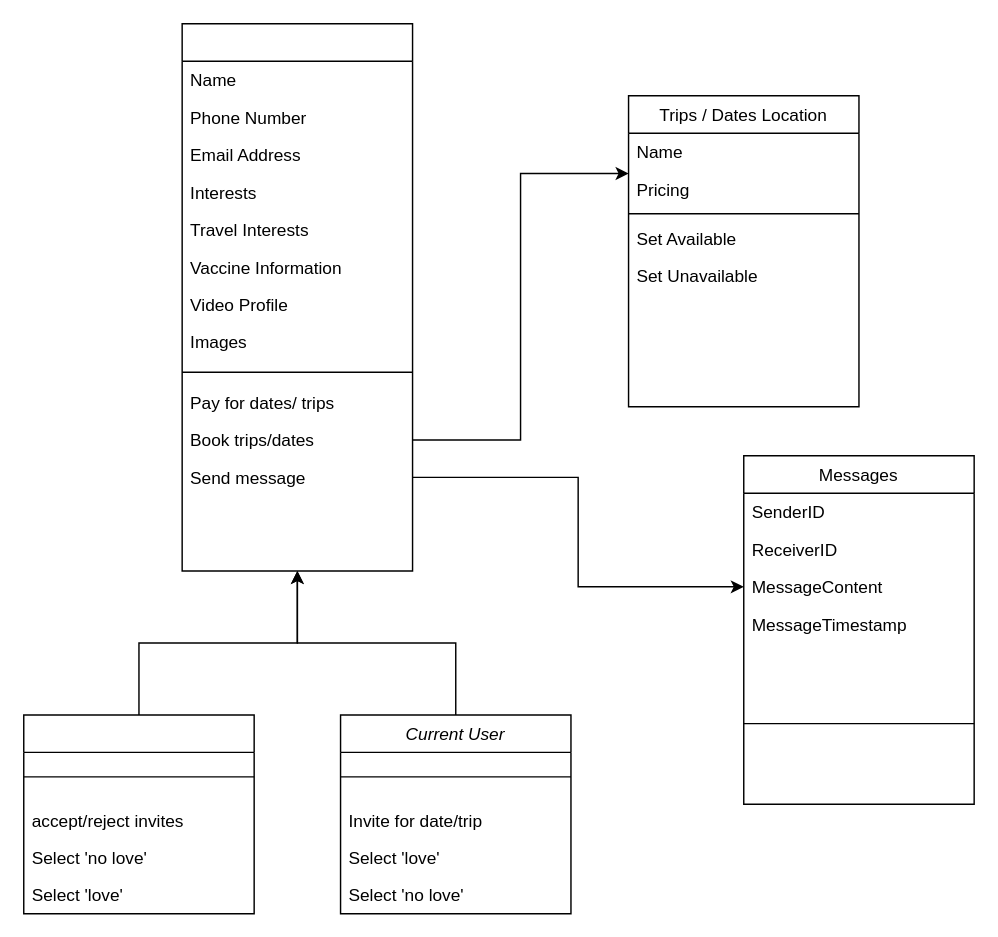
Some shapes in this 998 by 937 pixel diagram are drawn without their labels. The shapes that lost their labels are listed below. From the top down, each one's box as (x1, y1, x2, y2) in pixels, then its label:
(181, 22, 413, 571): User
(22, 714, 254, 914): Other User
